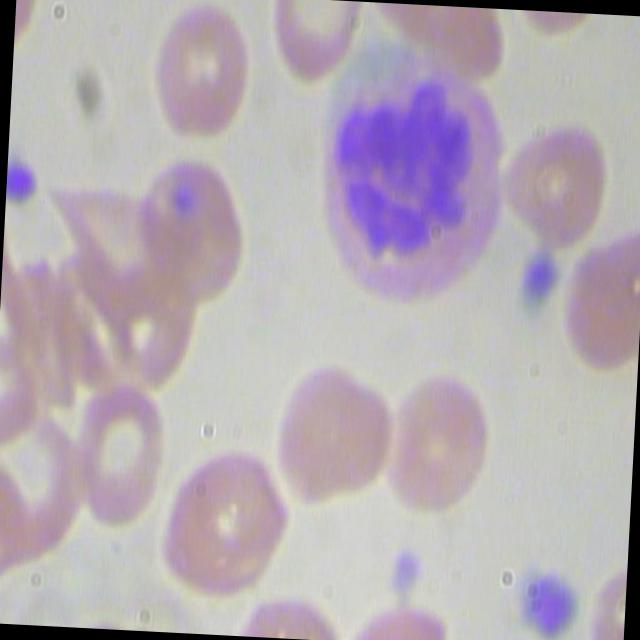Platelets: (513, 557, 585, 640), (516, 241, 566, 315), (388, 547, 430, 603), (7, 143, 40, 210)
RBC: (158, 438, 300, 600), (380, 362, 503, 522), (274, 357, 397, 517), (130, 149, 252, 309), (138, 0, 261, 151), (495, 112, 614, 247), (71, 373, 173, 528), (565, 226, 640, 382), (268, 0, 365, 91)
WBC: (302, 34, 516, 315)
